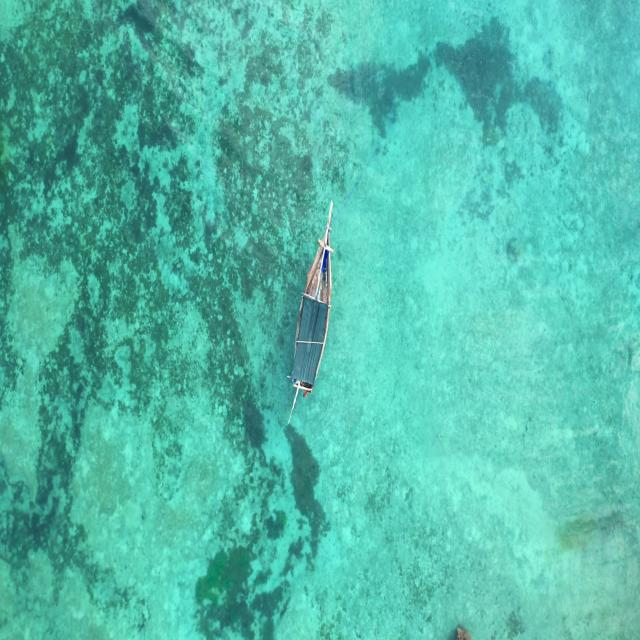ship: (292, 206, 333, 411)
